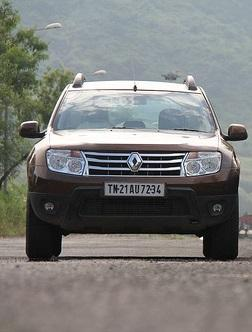License-Plate: (105, 176, 166, 204)
